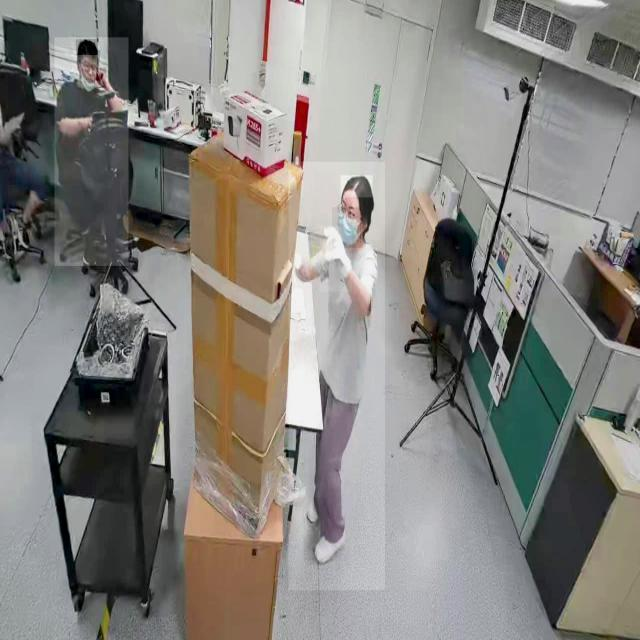face_mask: (332, 207, 361, 248)
hand_glove: (320, 226, 352, 292)
hand_noglove: (83, 112, 95, 135), (96, 67, 106, 89)
head_nohelmet: (341, 175, 373, 198), (76, 39, 98, 56)
person: (288, 162, 386, 591), (55, 37, 129, 267)
shoes: (312, 521, 349, 567), (304, 482, 326, 524), (14, 209, 34, 251)
